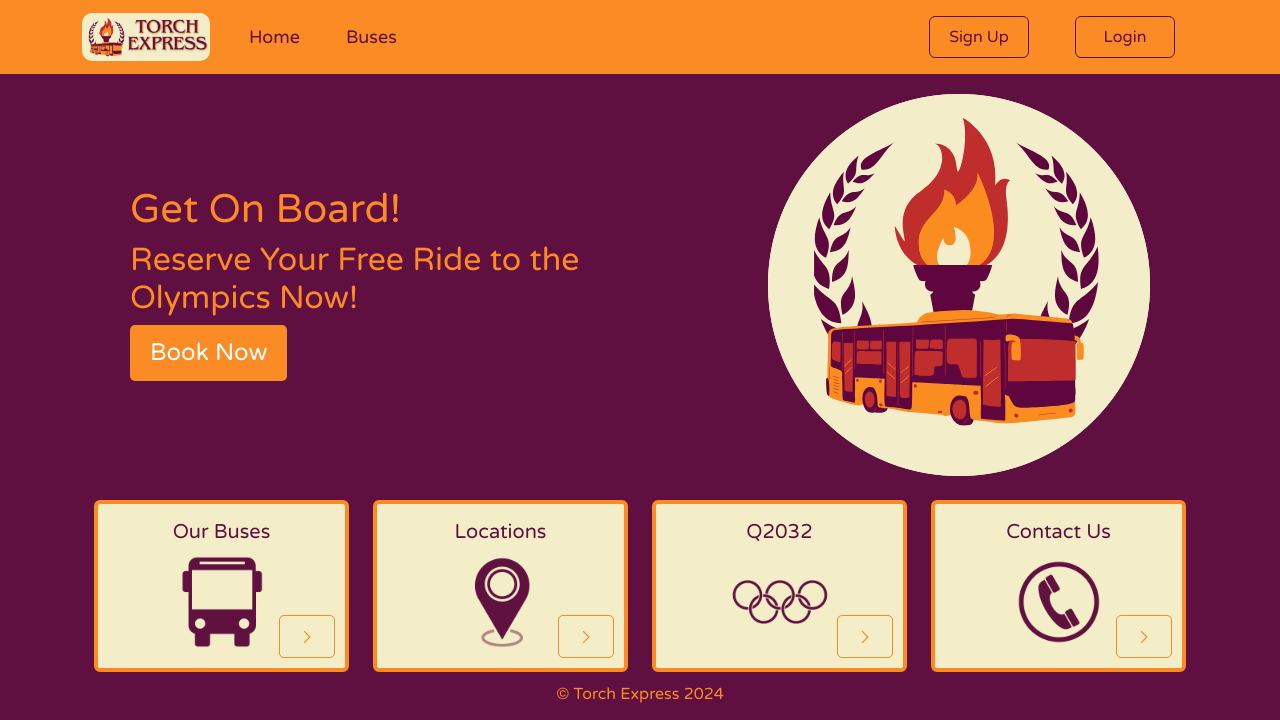
Test: app rendering and navigation › renders login button in navbar and is clickable
The image size is (1280, 720).
What coordinates should you click on to do the following:
click the button "Login"
I would click on:
 (1125, 37)
Its box is [1075,16,1175,58].
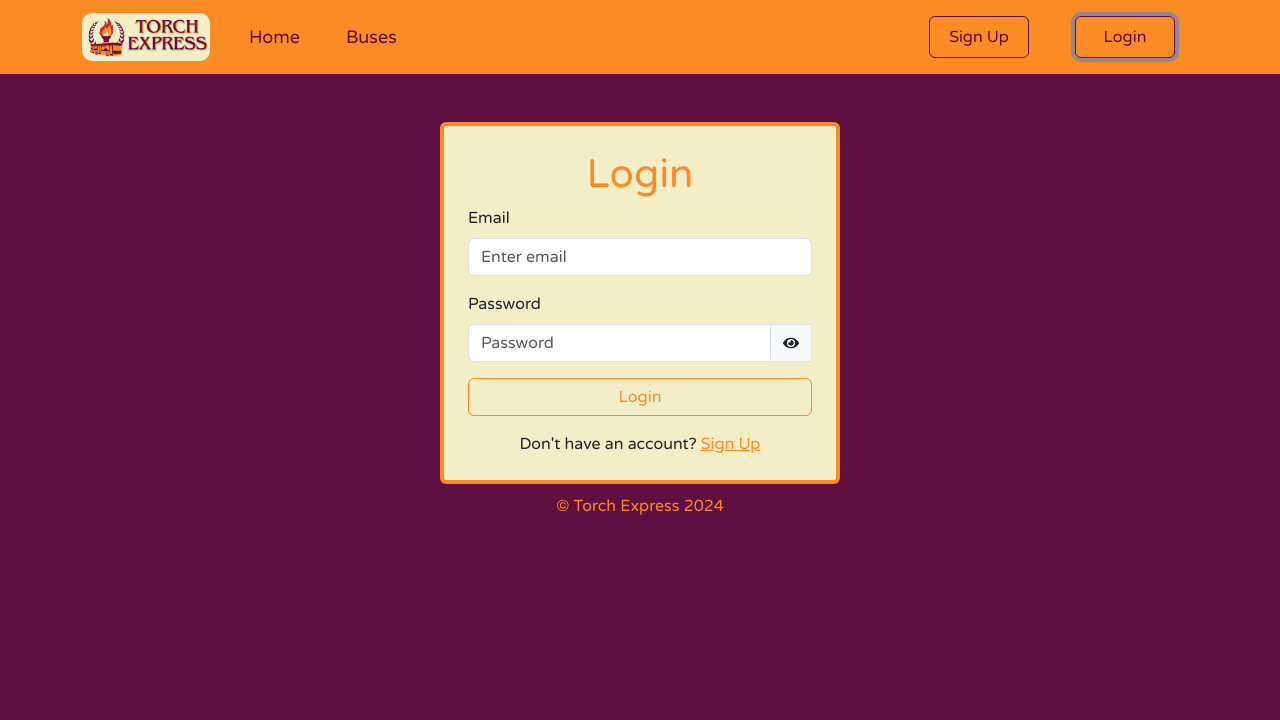
expect the heading "Login" is shown: met, box [586,150,693,198]
